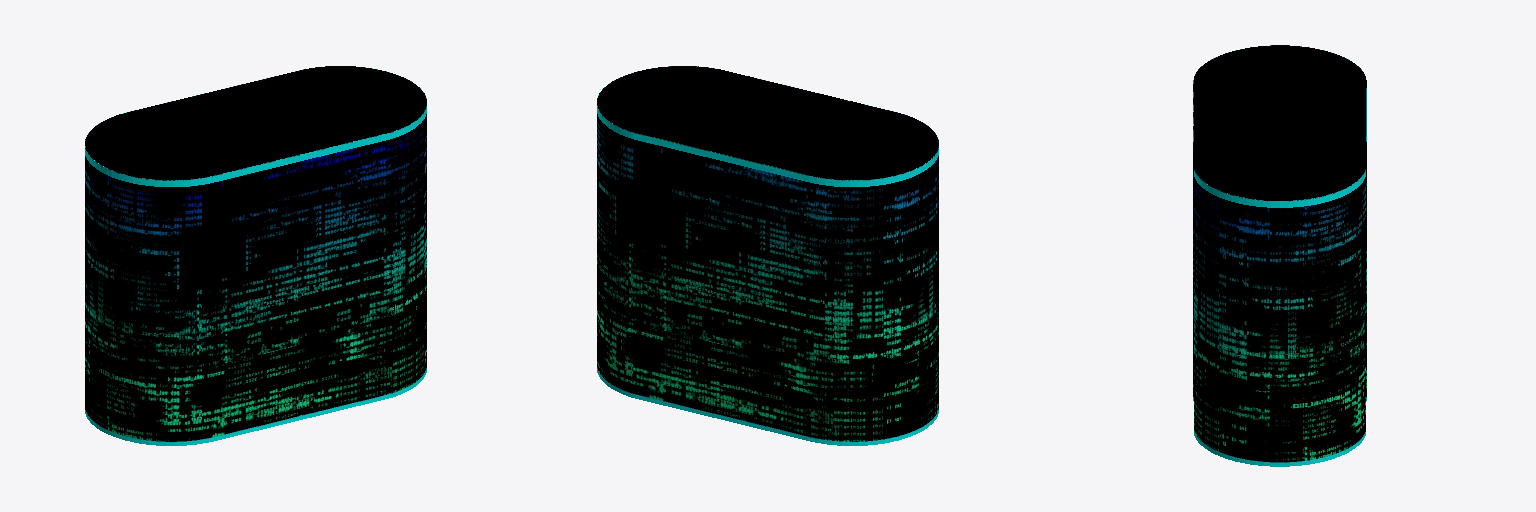
3 renders of one model, left to right at view 1: azimuth 30°, elevation 25°; view 2: azimuth 150°, elevation 25°; view 3: azimuth 270°, elevation 25°, orthographic.
Visible parts, largest first — view 1: Cylinder.002; view 2: Cylinder.002; view 3: Cylinder.002.
Boxes of the visible parts, x1=… form: Cylinder.002: x1=85, y1=66, x2=426, y2=445; Cylinder.002: x1=597, y1=66, x2=938, y2=445; Cylinder.002: x1=1193, y1=45, x2=1366, y2=466.
Size of the model in its own units: 75.47 by 60 by 35.52.
Materials: 3 (1 with a texture image).